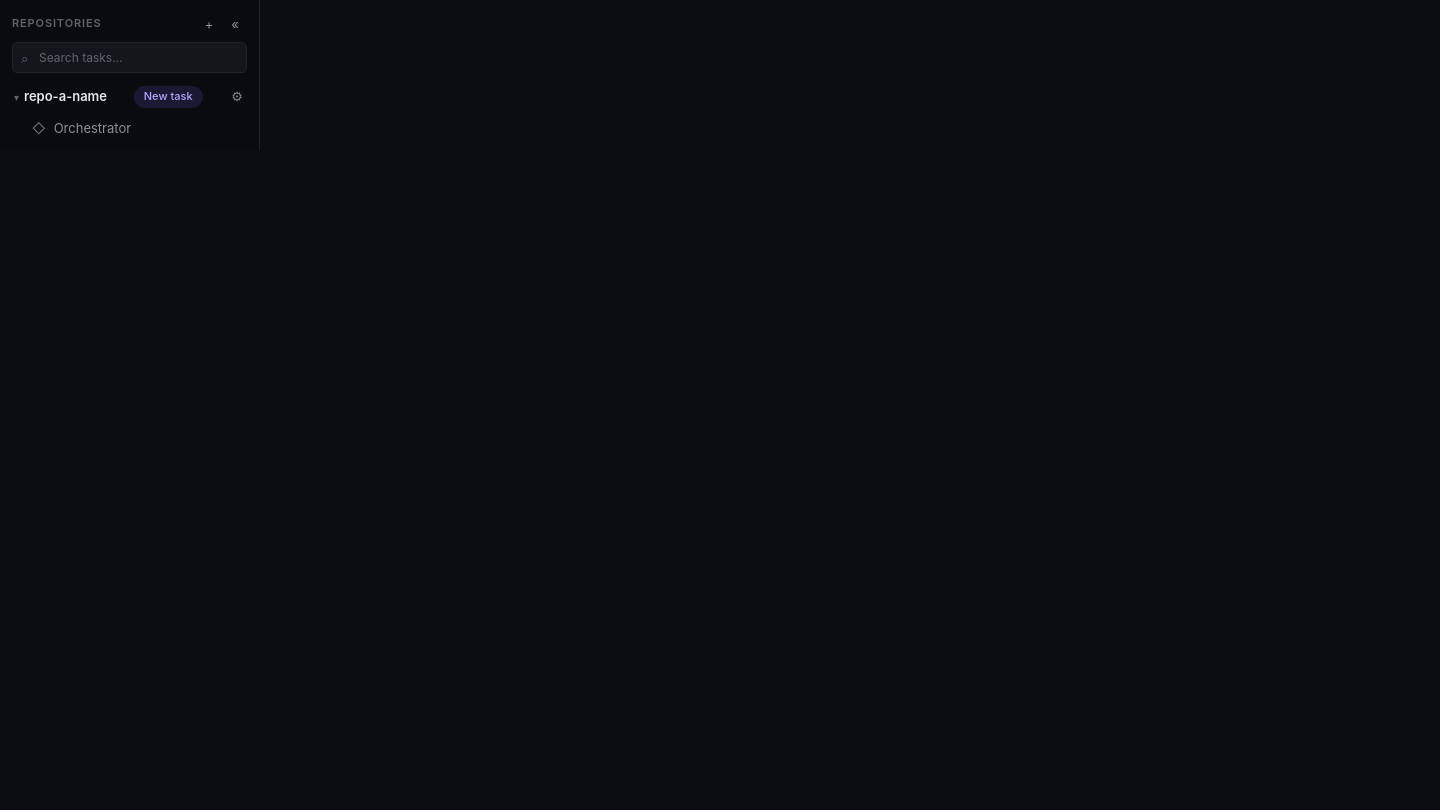
Test case: Sidebar › surfaces an error and keeps the form open when create_task fails
This screenshot has width=1440, height=810.
Click the button "New task" at (168, 97), box 134,86 -> 203,108
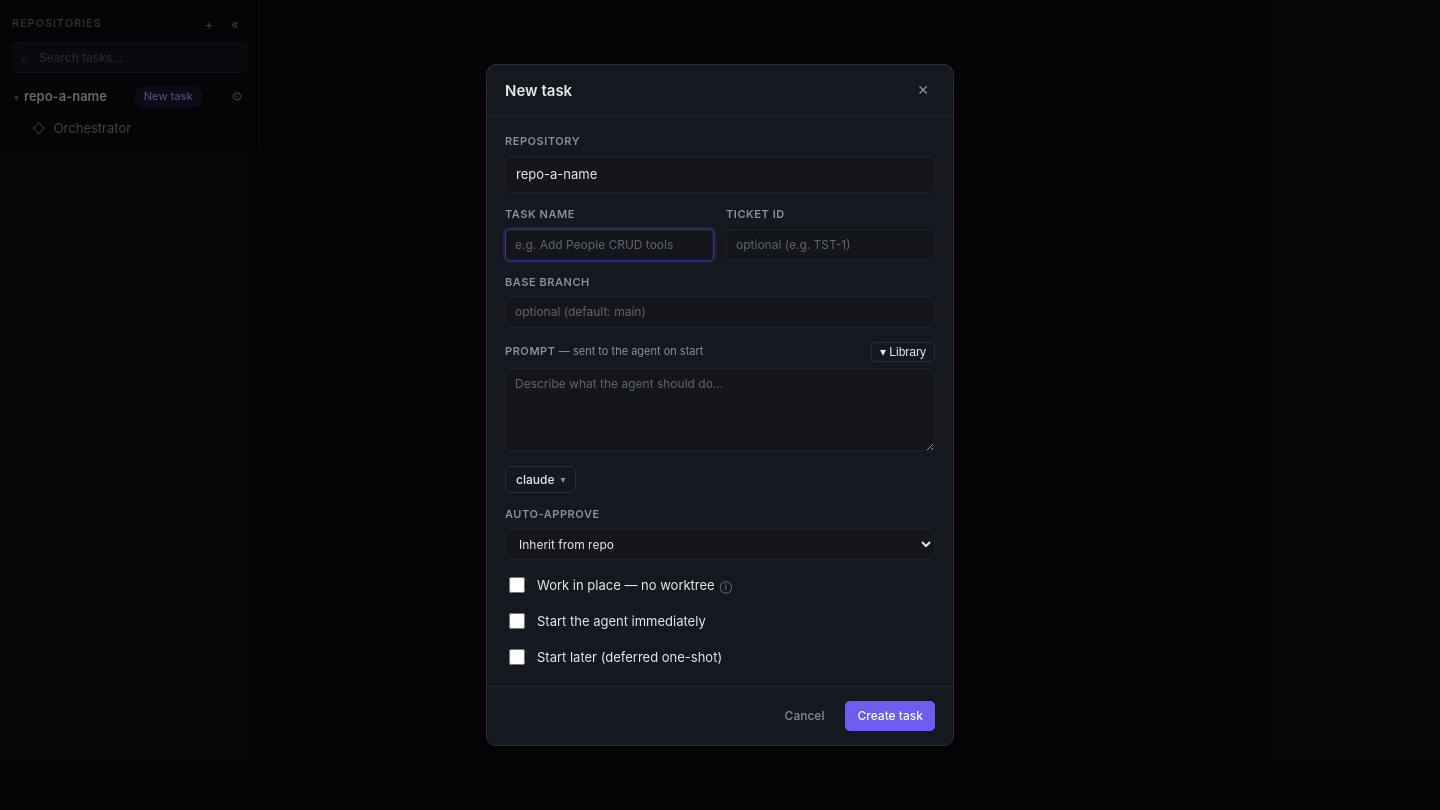
Type "Repo overview" into the field named "Task title" at (610, 245), box 505,229 -> 714,260
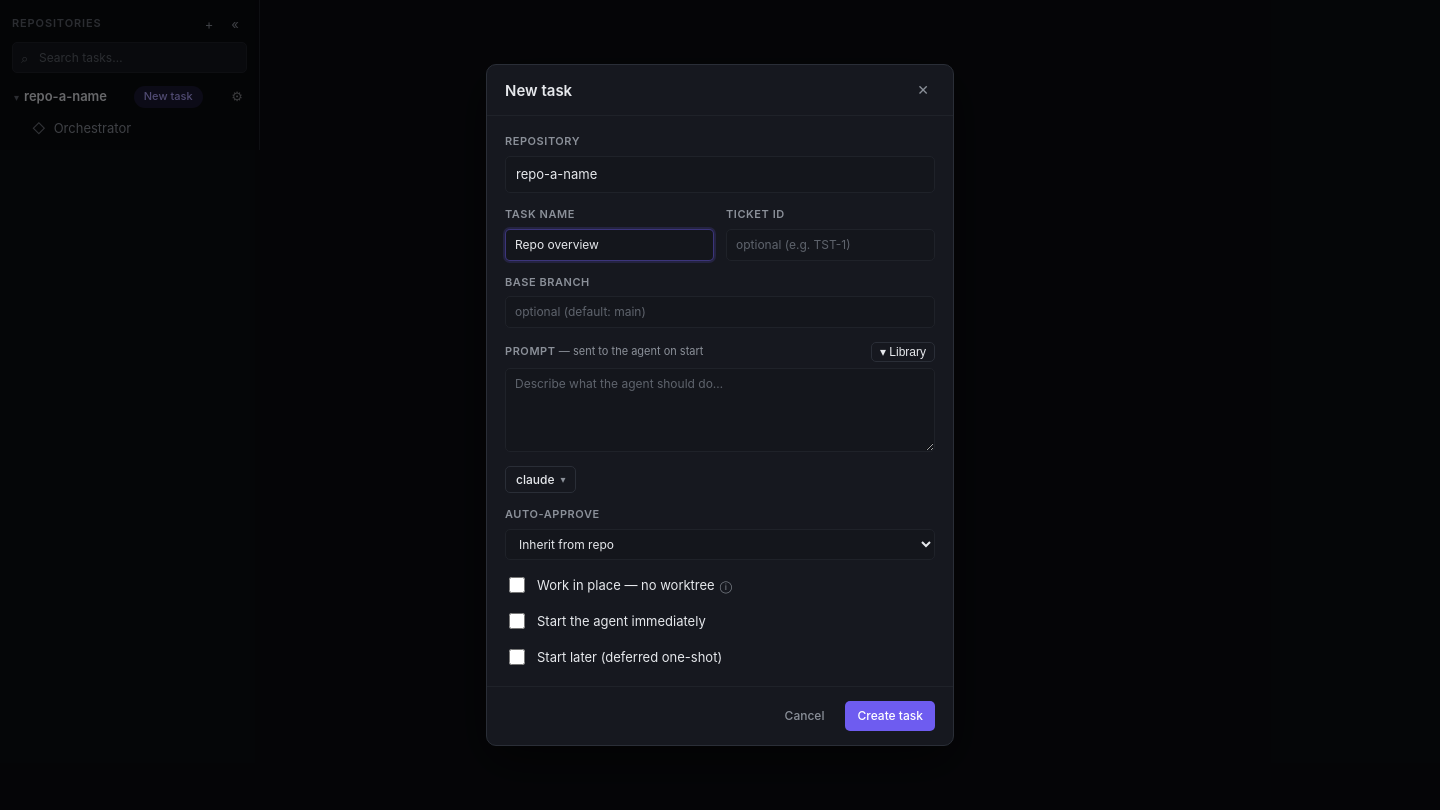
Click the button "Create task" at (890, 716), box 846,701 -> 935,731
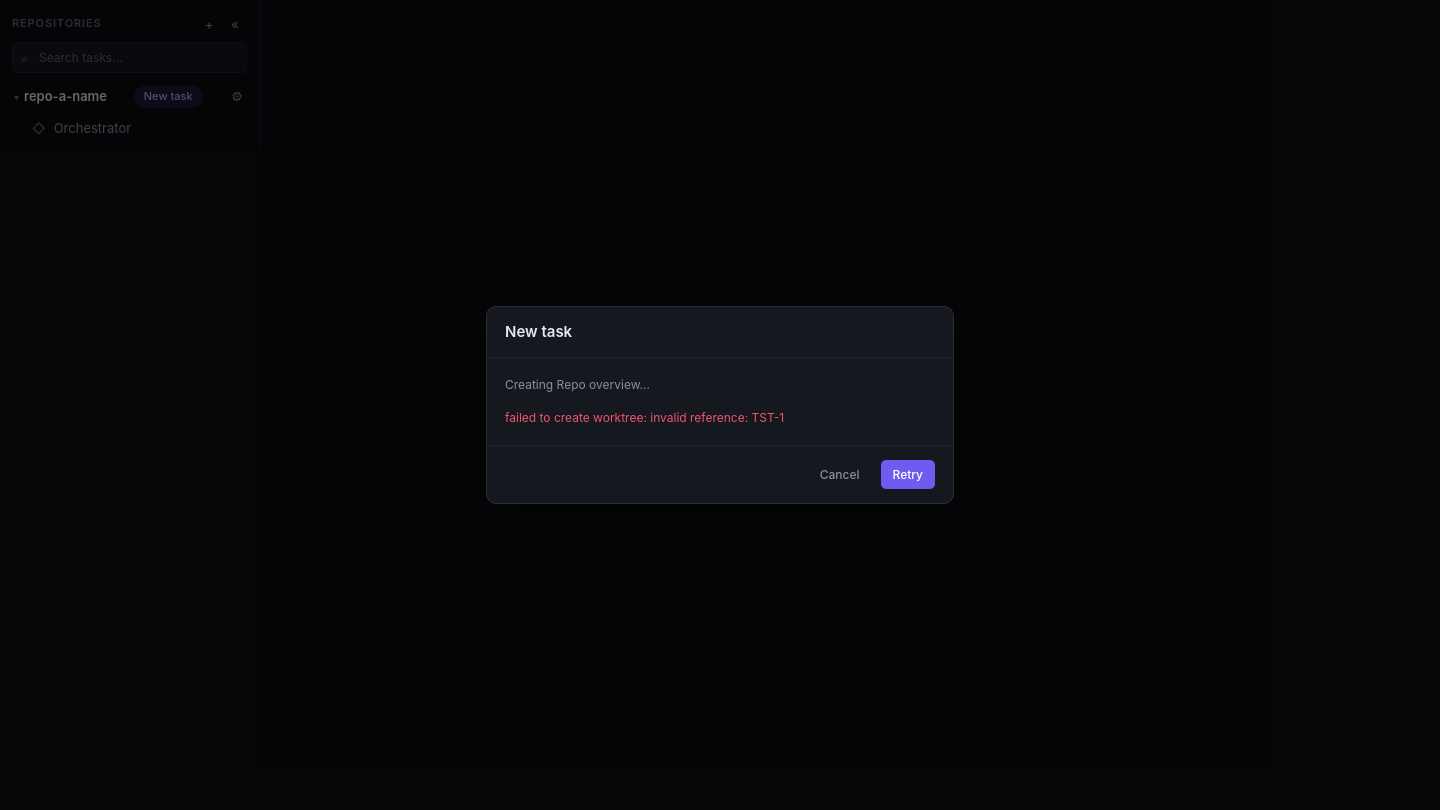
Expected: the message shows "invalid reference: TST-1", 505,410 -> 784,425
Expected: the button "Retry" is shown, 880,460 -> 935,489
